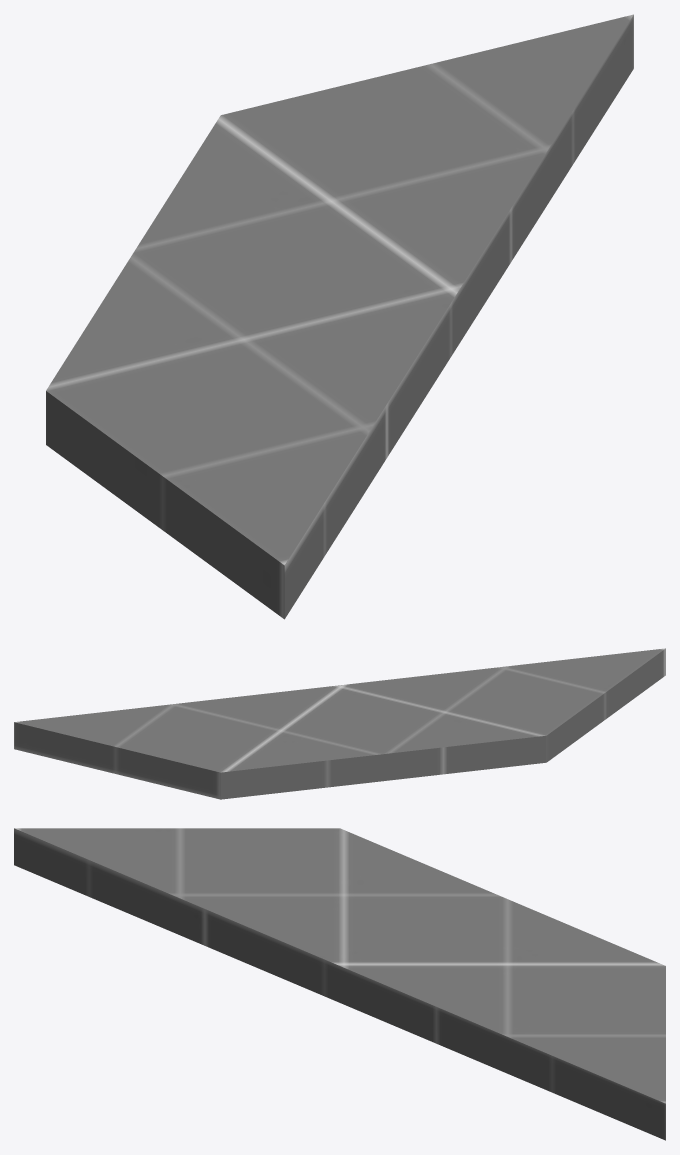
File: PlatformAngle_B.fbx
The picture shows the model from 3 angles, top to bottom: view 1: azimuth 30°, elevation 25°; view 2: azimuth 150°, elevation 25°; view 3: azimuth 270°, elevation 25°; orthographic projection. The views are drawn at different scales.
Visible parts, largest first — view 1: Plateforme_B; view 2: Plateforme_B; view 3: Plateforme_B.
Boxes of the visible parts, left/top/right/bottom form: Plateforme_B: left=46, top=14, right=633, bottom=619; Plateforme_B: left=14, top=648, right=665, bottom=799; Plateforme_B: left=14, top=828, right=665, bottom=1140.
Size of the model in its own units: 16 by 16 by 1.
Materials: 1 (1 with a texture image).
